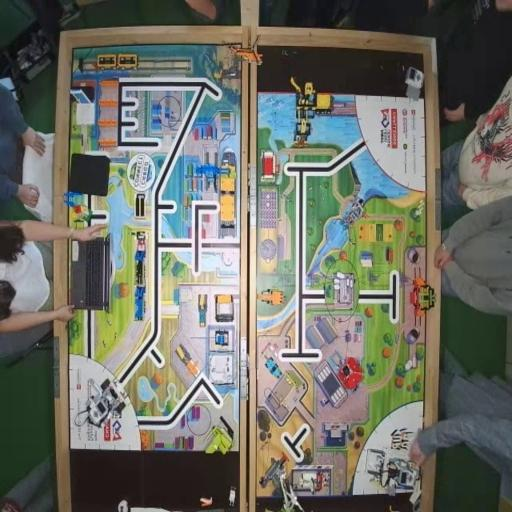lego_robot: (365, 448, 423, 512), (74, 376, 128, 430)
